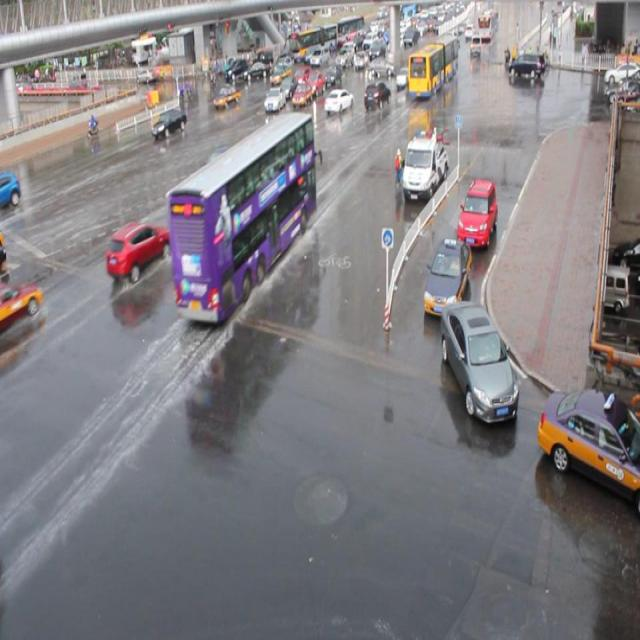bus: (401, 130, 448, 200)
car: (535, 386, 640, 514), (440, 298, 518, 425), (106, 218, 173, 282), (422, 236, 470, 316), (456, 178, 497, 246), (1, 276, 43, 332), (207, 146, 254, 193), (152, 107, 188, 138), (1, 168, 22, 210), (324, 89, 353, 116), (212, 82, 240, 109), (364, 81, 390, 110), (264, 86, 286, 112), (292, 82, 313, 109), (279, 74, 298, 100), (305, 72, 325, 96)
van: (165, 111, 316, 322), (406, 34, 458, 98)
